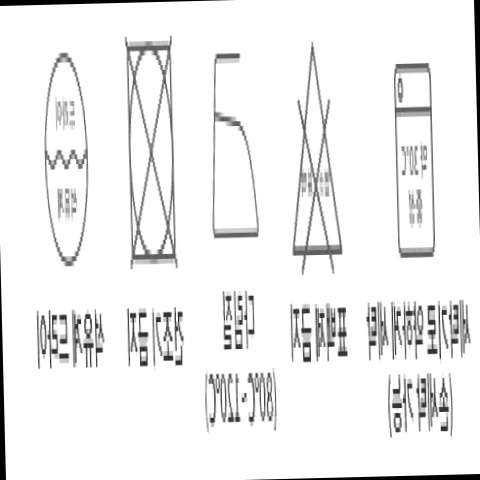30C: (384, 58, 445, 268)
DN_tumble_dry: (108, 27, 188, 278)
dry_clean_petrol_only: (27, 36, 100, 275)
iron: (199, 45, 271, 253)
non_chlorine_bleach: (277, 41, 347, 277)
